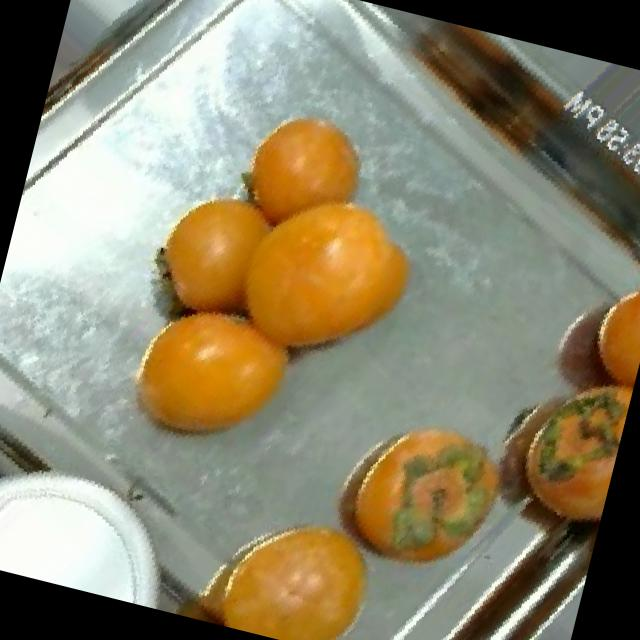Fruit: (298, 378, 546, 620), (216, 154, 449, 401), (102, 271, 325, 487), (206, 80, 400, 296), (125, 158, 328, 360), (186, 474, 408, 640), (470, 348, 636, 560), (570, 248, 640, 413)
